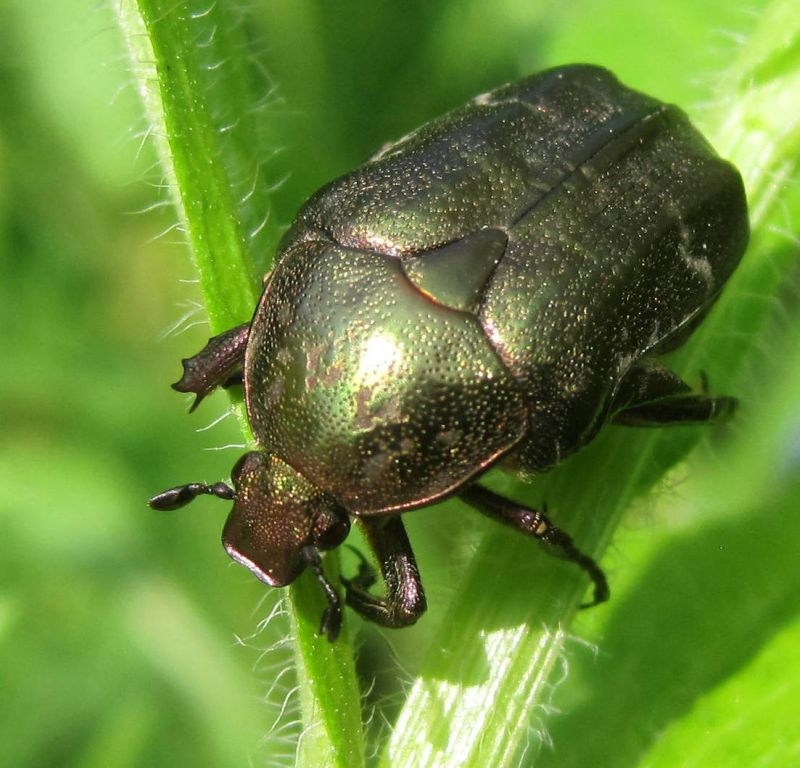Protaetia_metallica: (141, 53, 750, 655)
